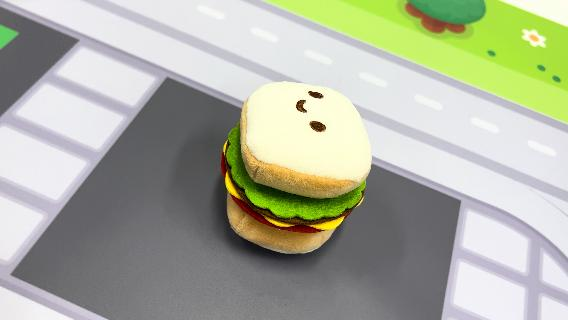sandwich: (219, 78, 375, 255)
